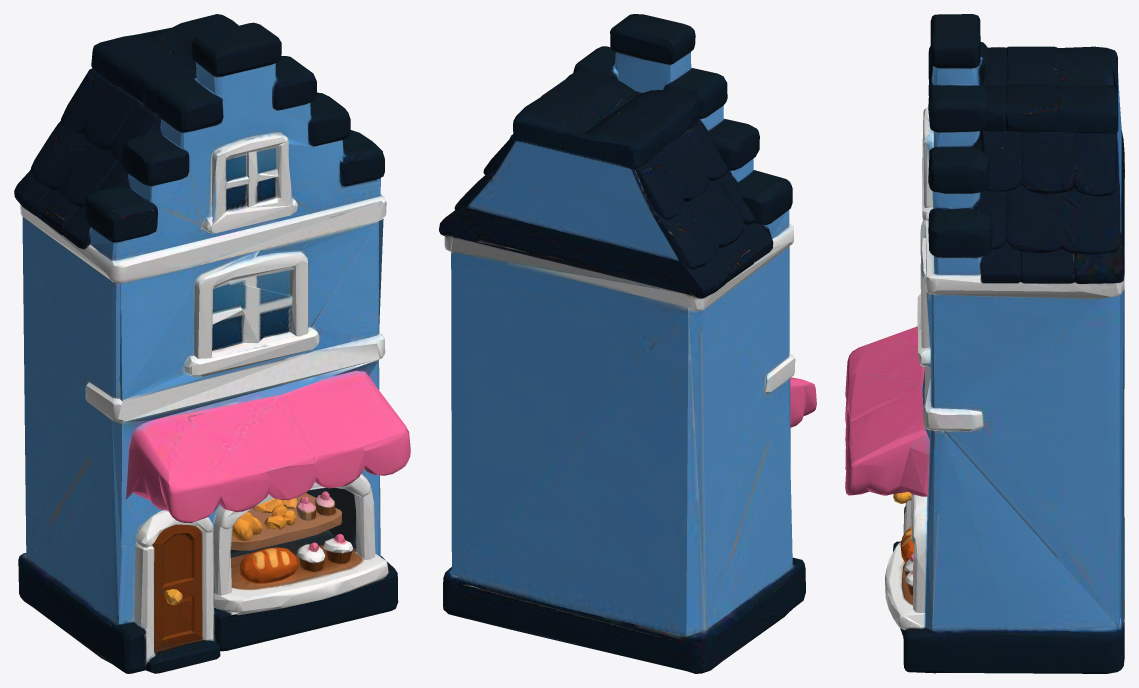
The model's file is by-hus-blaa.glb.
3 views of the same model, side by side, from view 1: azimuth 30°, elevation 25°; view 2: azimuth 150°, elevation 25°; view 3: azimuth 270°, elevation 25° (orthographic). The views are drawn at different scales.
Size of the model in its own units: 0.9642 by 1.9 by 0.829.
1 material, 1 textured.
